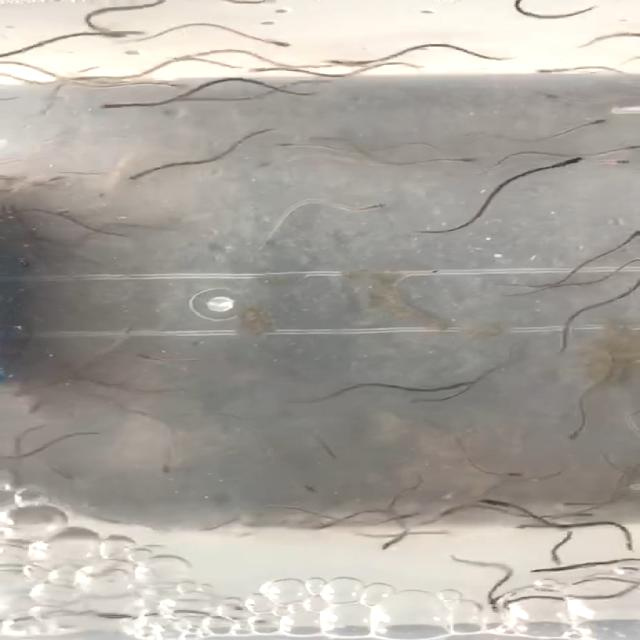active_glass_eel: (100, 310, 158, 342), (560, 419, 608, 445), (92, 21, 142, 43), (552, 558, 612, 576), (263, 134, 315, 154), (142, 452, 189, 474), (356, 196, 402, 218), (603, 225, 640, 252), (255, 31, 299, 53), (472, 492, 514, 512), (544, 153, 584, 173), (329, 52, 371, 71), (564, 115, 616, 129), (448, 150, 492, 166), (435, 380, 485, 394), (90, 99, 128, 117), (598, 448, 626, 472), (296, 481, 324, 505), (376, 536, 411, 554), (114, 168, 158, 182), (142, 346, 178, 363), (253, 60, 290, 76), (529, 66, 571, 80), (486, 469, 530, 482), (481, 600, 513, 616), (614, 253, 640, 271), (602, 159, 632, 174), (610, 142, 640, 154)
